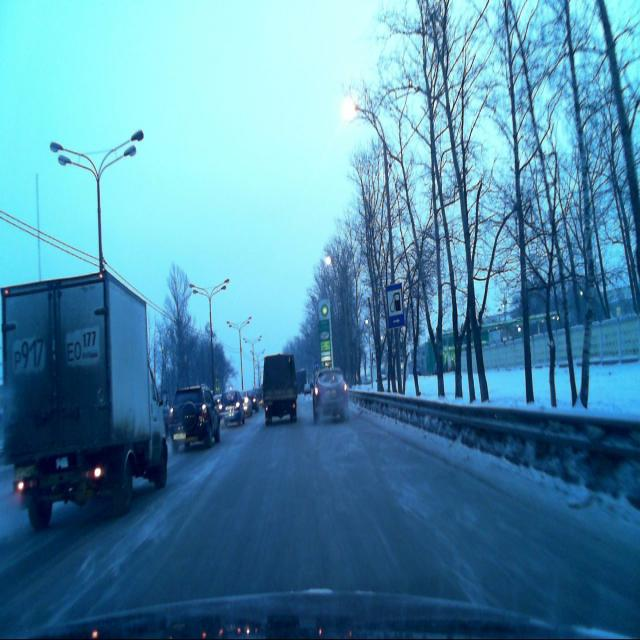road sign: (386, 284, 404, 328)
